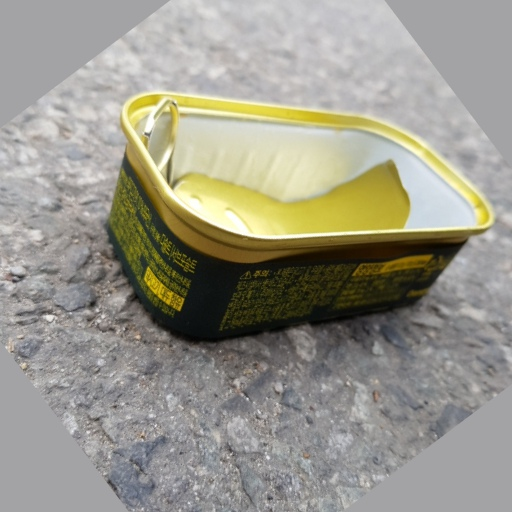Metal_2: (107, 88, 495, 348)
